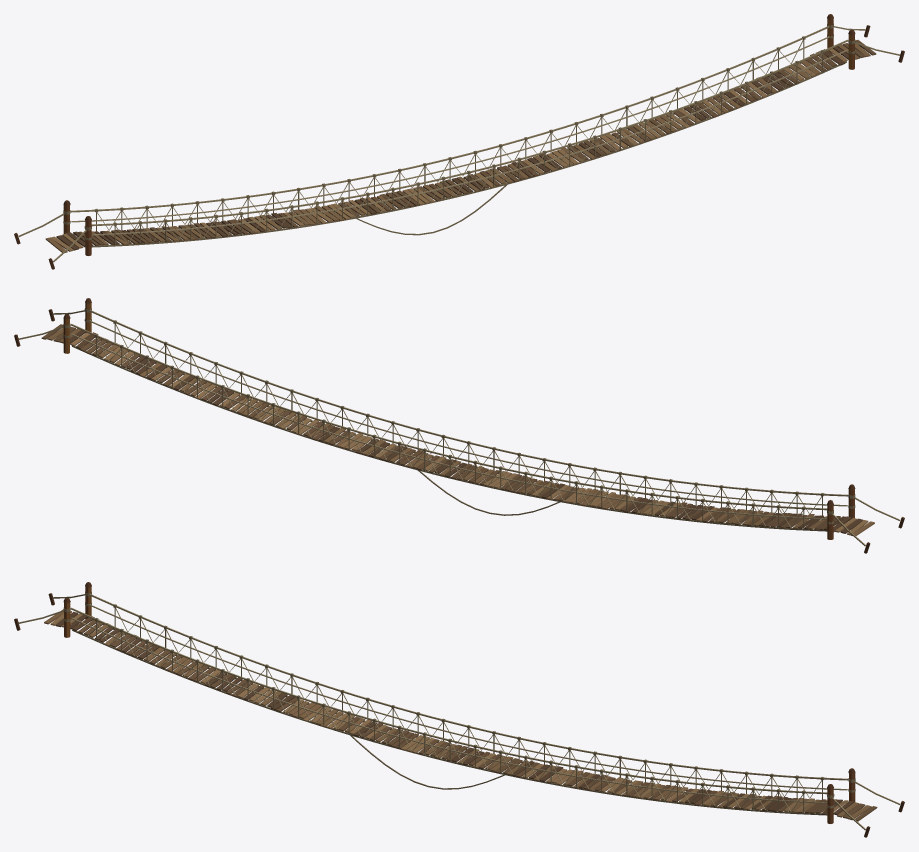
Rendered from mtn_rope_bridge.glb.
3 renders of one model, top to bottom at view 1: azimuth 30°, elevation 25°; view 2: azimuth 150°, elevation 25°; view 3: azimuth 330°, elevation 25°, orthographic.
Parts seen in each view (by area): view 1: mtn_rope_bridge; view 2: mtn_rope_bridge; view 3: mtn_rope_bridge.
Part boxes in pixels (x1,y1,x2,y2): mtn_rope_bridge: (14, 14, 904, 269); mtn_rope_bridge: (14, 298, 904, 553); mtn_rope_bridge: (14, 582, 904, 837).
Size of the model in its own units: 45.14 by 5.47 by 3.28.
